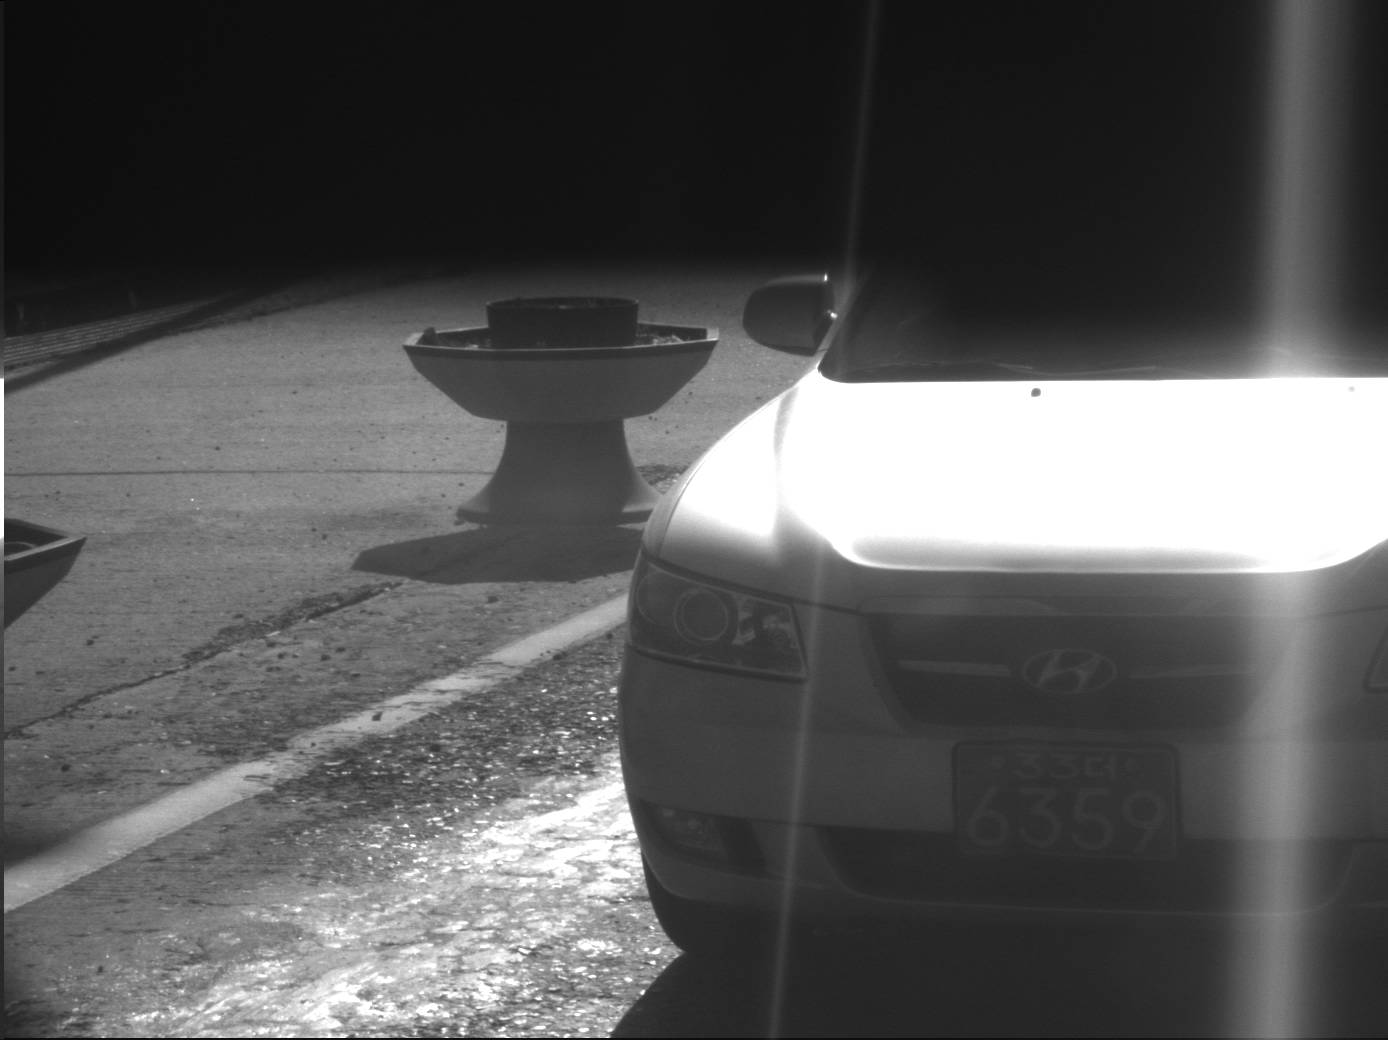car: (619, 255, 1387, 966)
plate: (949, 742, 1185, 865)
